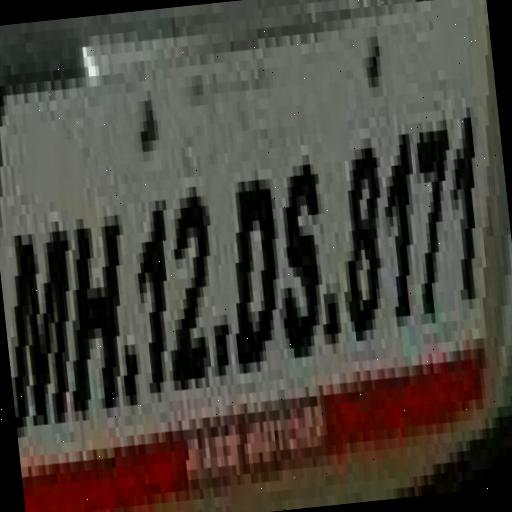number plate: (0, 0, 492, 438)
